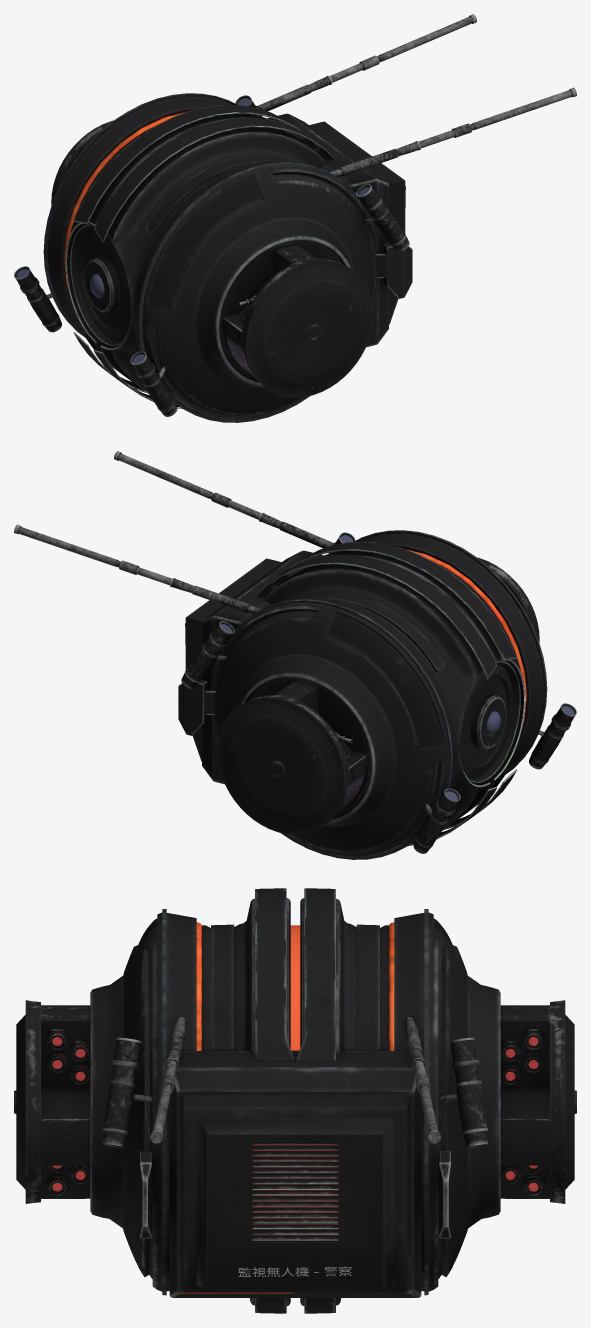
Rendered from Drone.glb.
The picture shows the model from 3 angles, top to bottom: view 1: azimuth 30°, elevation 25°; view 2: azimuth 150°, elevation 25°; view 3: azimuth 270°, elevation 25°; orthographic projection. The views are drawn at different scales.
Visible parts, largest first — view 1: Drone; view 2: Drone; view 3: Drone.
Part boxes in pixels (<box>): Drone: <box>14,14,576,422</box>; Drone: <box>14,451,576,859</box>; Drone: <box>14,888,576,1313</box>.
Bounding box in the file's own units: 1.97 × 1.15 × 1.53.
Materials: 1 (1 with a texture image).
